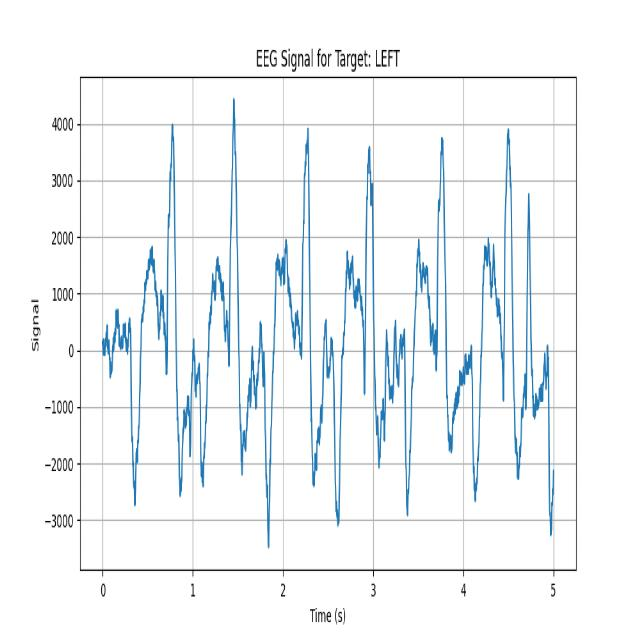LEFT: (390, 97, 472, 551), (320, 96, 391, 555), (251, 96, 321, 553), (192, 93, 252, 515), (472, 99, 528, 545), (135, 125, 191, 499)
